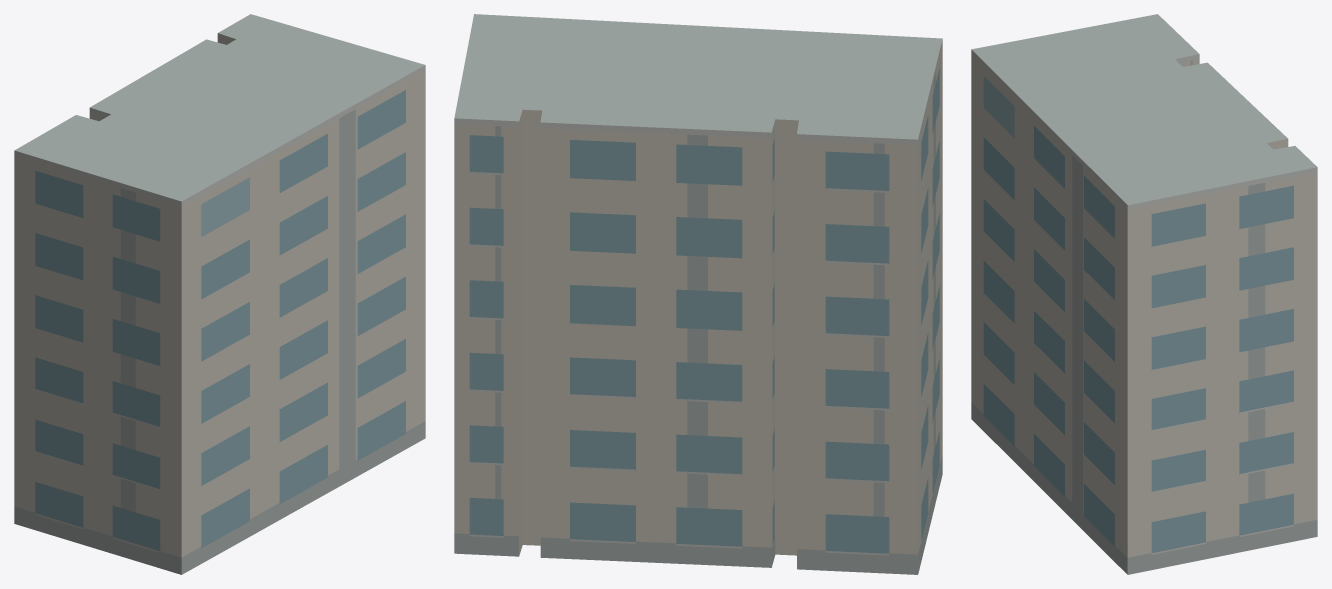
File: survey-upis-32905386.glb
3 renders of one model, left to right at view 1: azimuth 30°, elevation 25°; view 2: azimuth 150°, elevation 25°; view 3: azimuth 270°, elevation 25°, orthographic. The views are drawn at different scales.
Visible parts, largest first — view 1: survey-upis-32905386.tmp; view 2: survey-upis-32905386.tmp; view 3: survey-upis-32905386.tmp.
Boxes of the visible parts, left/top/right/bottom form: survey-upis-32905386.tmp: left=14, top=14, right=425, bottom=574; survey-upis-32905386.tmp: left=454, top=14, right=942, bottom=574; survey-upis-32905386.tmp: left=971, top=14, right=1317, bottom=574.
Size of the model in its own units: 20.32 by 18.3 by 15.55.
